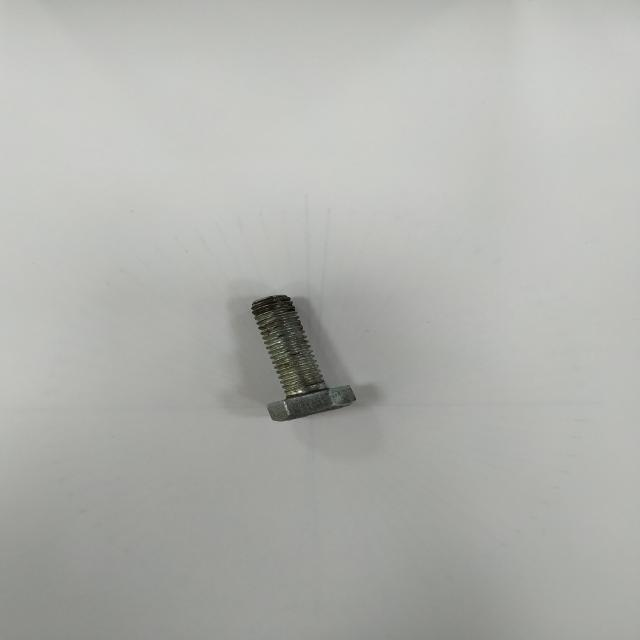Bolt: (250, 295, 357, 422)
